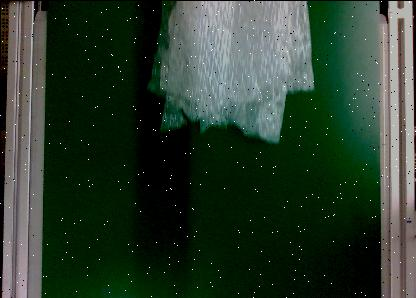Others: (147, 0, 315, 143)
